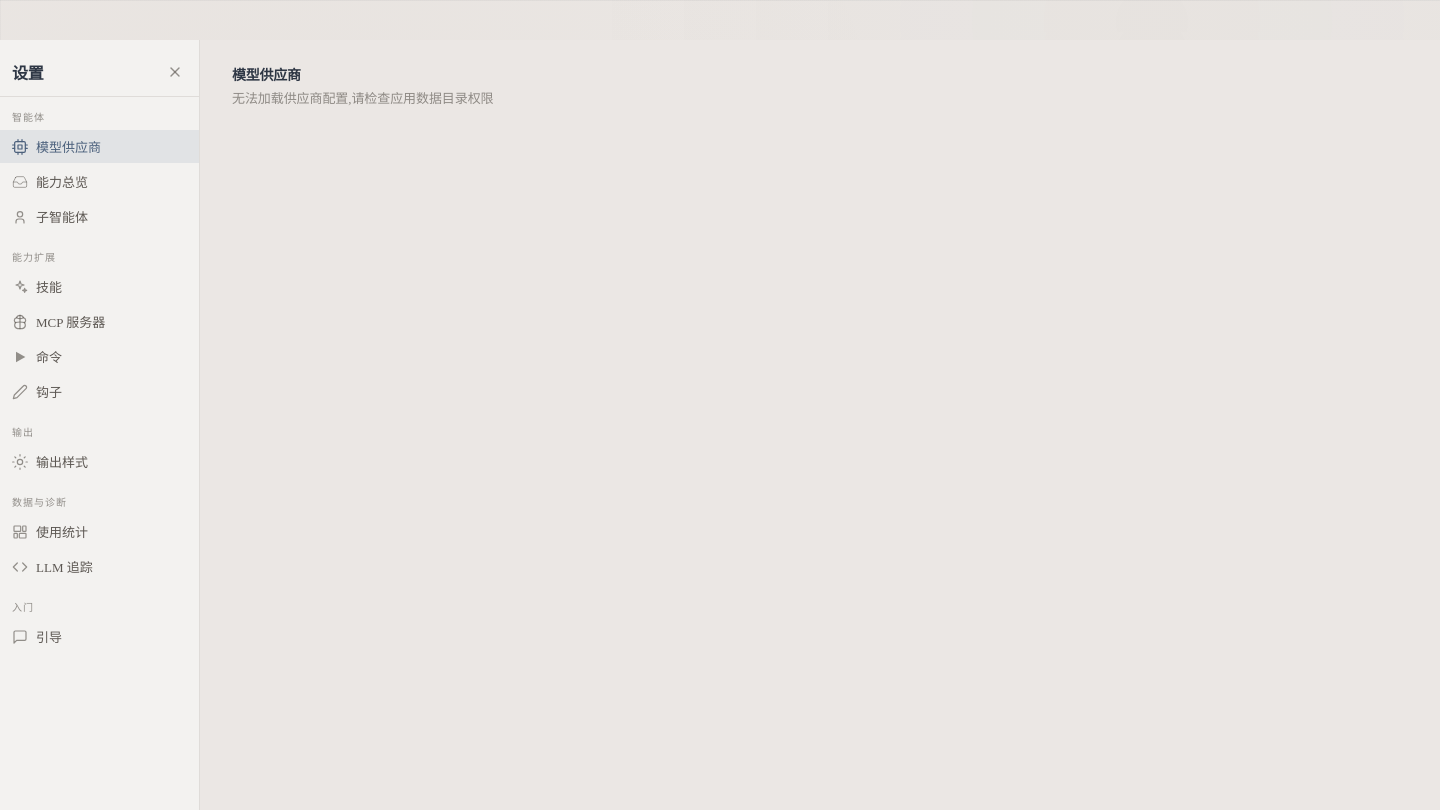
Test: SettingsView (A7 plugins→capability rename) › routes to CapabilitySection on click — built-in tools overview appears
The image size is (1440, 810).
Click the button "能力总览".
click(100, 182)  # box [0,165,199,198]
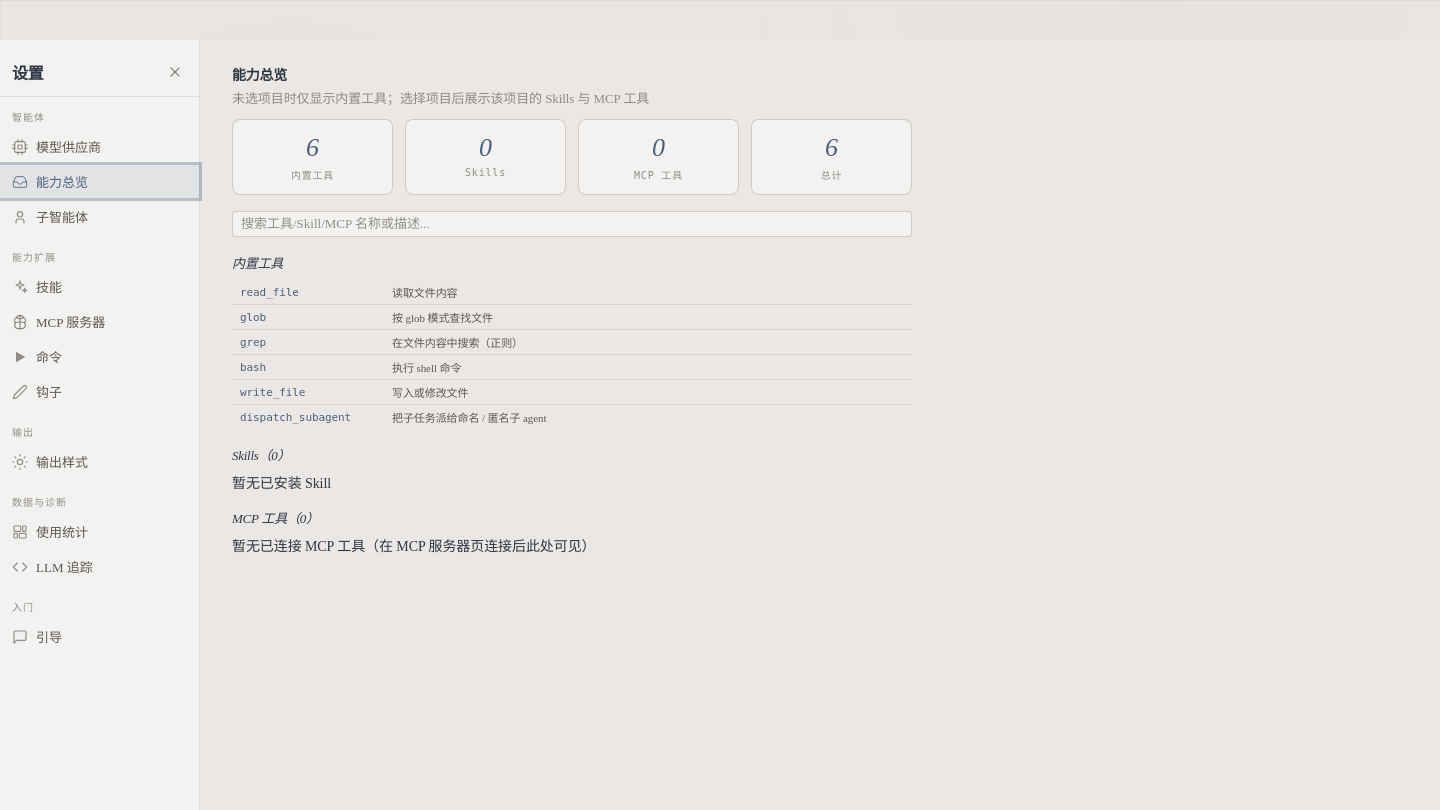
Expected: the text "dispatch_subagent" is shown, [240,411,351,424]
